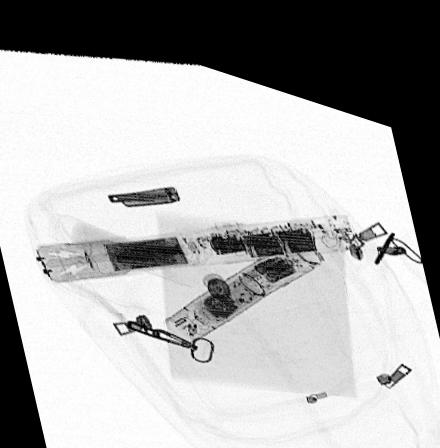Baton: (32, 187, 361, 279), (162, 217, 324, 332)
